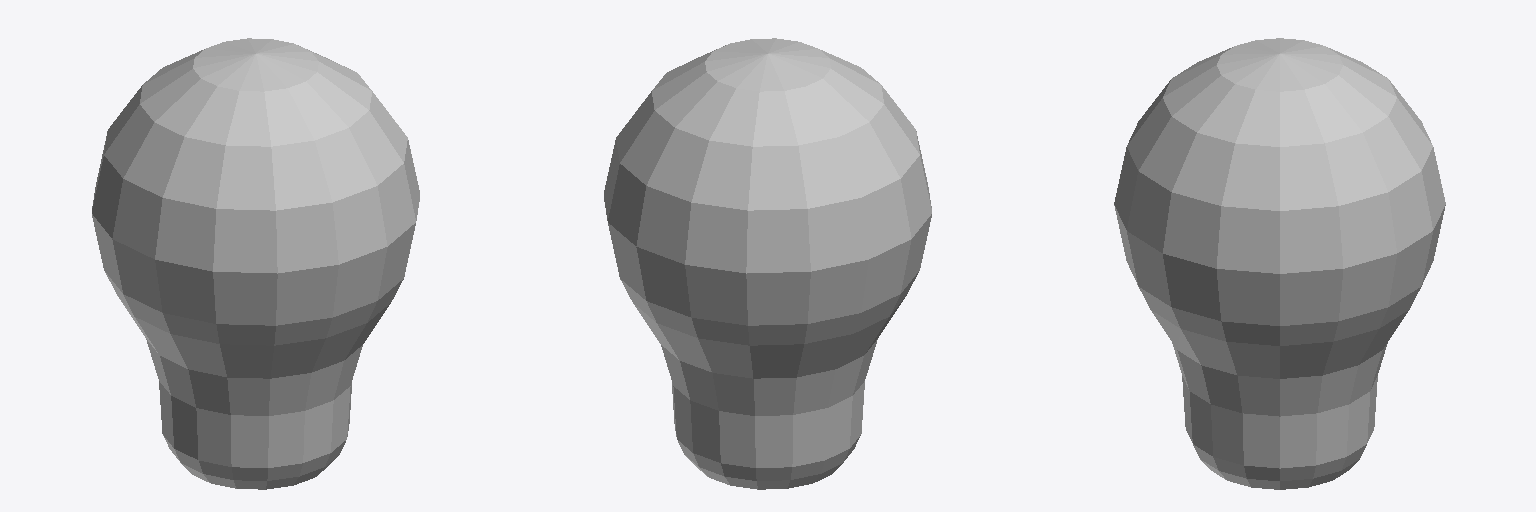
The model's file is light_bulb_top.obj.
The picture shows the model from 3 angles: view 1: azimuth 30°, elevation 25°; view 2: azimuth 150°, elevation 25°; view 3: azimuth 270°, elevation 25°; orthographic projection.
Parts seen in each view (by area): view 1: Lightbulb_1_Lightbulb.001; view 2: Lightbulb_1_Lightbulb.001; view 3: Lightbulb_1_Lightbulb.001.
Boxes of the visible parts, <box> form: Lightbulb_1_Lightbulb.001: <box>92,38,419,489</box>; Lightbulb_1_Lightbulb.001: <box>604,38,931,489</box>; Lightbulb_1_Lightbulb.001: <box>1114,38,1445,489</box>.
Size of the model in its own units: 1.51 by 2.03 by 1.51.